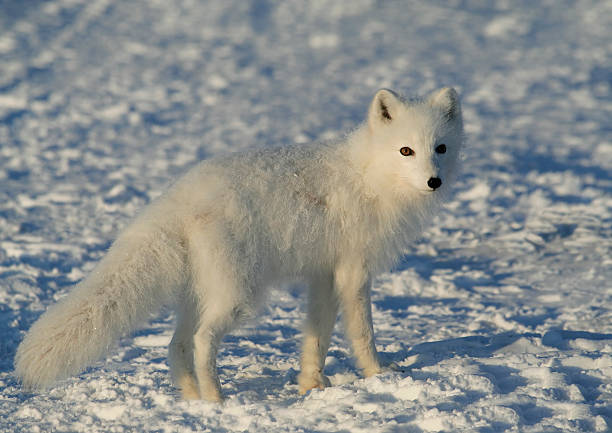arcticfox: (383, 110, 400, 195)
